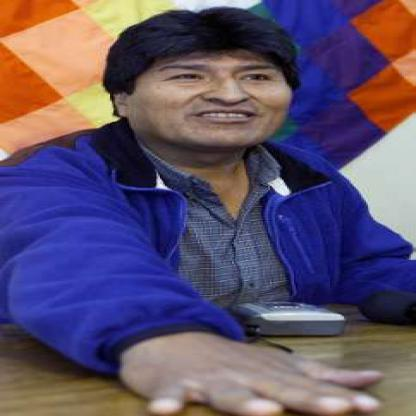face: (126, 14, 302, 153)
